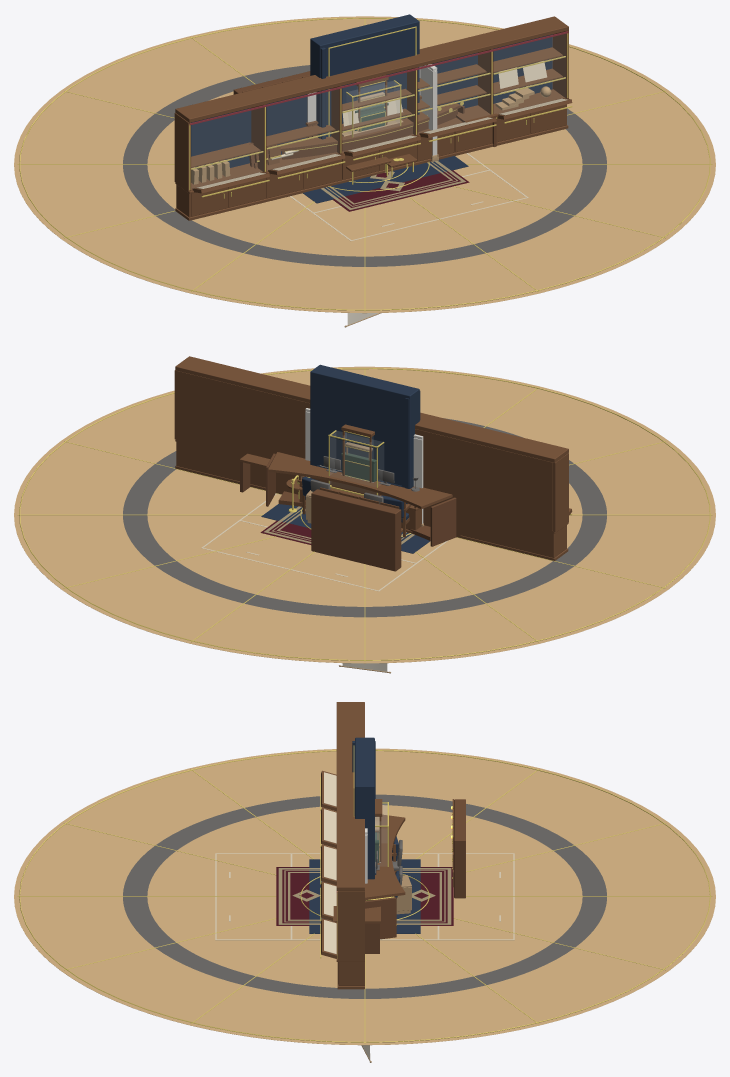
Rendered from kit.6f5f4950.glb.
3 renders of one model, top to bottom at view 1: azimuth 30°, elevation 25°; view 2: azimuth 150°, elevation 25°; view 3: azimuth 270°, elevation 25°, orthographic.
Visible parts, largest first — view 1: atrium-floor-inlay, history-case-run, atrium-floor-inlay__dark, history-case-run__lining, atrium-floor-inlay__brass, holyoke-entry-screen__art, history-case-run__trim, holyoke-entry-screen, history-case-run__paper, atrium-reception-desk__timber, atrium-lounge-set__upholstery, office-rug (+7 smaller); view 2: atrium-floor-inlay, history-case-run, atrium-floor-inlay__dark, holyoke-entry-screen, atrium-reception-desk__storage, atrium-floor-inlay__brass, atrium-reception-desk__timber, atrium-reception-desk, atrium-lounge-set__upholstery, partition, atrium-reception-desk__props, office-safe (+4 smaller); view 3: atrium-floor-inlay, atrium-floor-inlay__dark, history-case-run, atrium-floor-inlay__brass, office-rug, holyoke-entry-screen, atrium-reception-desk__timber, office-rug__border, history-case-run__paper, atrium-lounge-set__upholstery, atrium-reception-desk, gym-court-lines (+1 smaller).
Boxes of the visible parts, x1,y1,x2,y2 form: atrium-floor-inlay: (14, 16, 715, 313); history-case-run: (174, 16, 572, 220); atrium-floor-inlay__dark: (123, 65, 606, 266); history-case-run__lining: (191, 34, 552, 168); atrium-floor-inlay__brass: (17, 17, 712, 311); holyoke-entry-screen__art: (329, 28, 415, 136); history-case-run__trim: (189, 33, 572, 198); holyoke-entry-screen: (310, 14, 419, 139); history-case-run__paper: (196, 61, 567, 188); atrium-reception-desk__timber: (242, 75, 498, 168); atrium-lounge-set__upholstery: (303, 156, 468, 203); office-rug: (332, 170, 469, 211); atrium-floor-inlay: (14, 366, 715, 663); history-case-run: (174, 356, 572, 560); atrium-floor-inlay__dark: (123, 418, 606, 617); holyoke-entry-screen: (310, 364, 420, 503); atrium-reception-desk__storage: (311, 489, 401, 571); atrium-floor-inlay__brass: (17, 368, 712, 661); atrium-reception-desk__timber: (239, 452, 452, 509); atrium-reception-desk: (240, 453, 456, 546); atrium-lounge-set__upholstery: (261, 476, 430, 553); partition: (305, 408, 423, 523); atrium-reception-desk__props: (310, 456, 419, 504); office-safe: (341, 452, 376, 481); atrium-floor-inlay: (14, 748, 715, 1045); atrium-floor-inlay__dark: (123, 794, 606, 998); history-case-run: (321, 702, 364, 989); atrium-floor-inlay__brass: (17, 750, 712, 1043); office-rug: (276, 867, 453, 925); holyoke-entry-screen: (352, 737, 375, 879); atrium-reception-desk__timber: (333, 799, 453, 923); office-rug__border: (278, 868, 451, 924); history-case-run__paper: (324, 772, 336, 954); atrium-lounge-set__upholstery: (309, 836, 420, 933); atrium-reception-desk: (365, 897, 396, 953); gym-court-lines: (215, 853, 514, 940).
Size of the model in its own units: 16.4 by 7.48 by 16.4.
